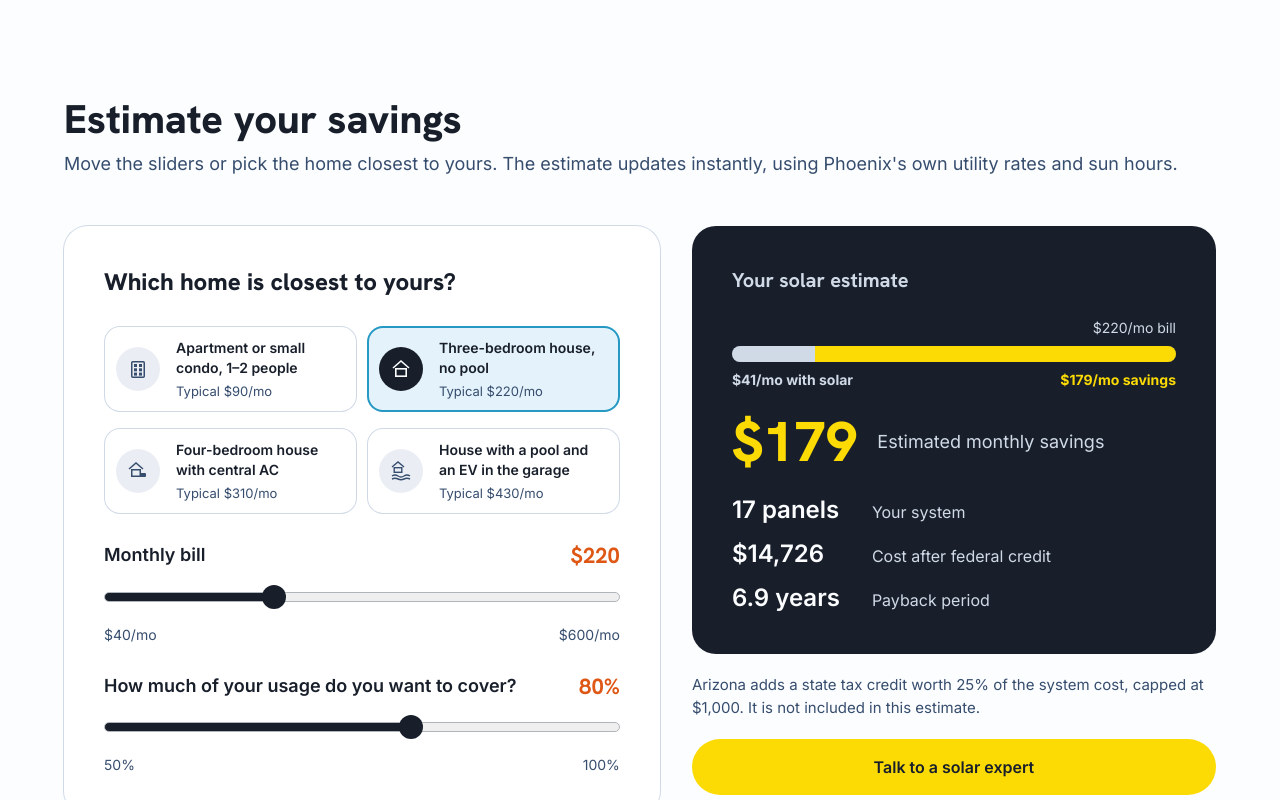
it: Simulator › the savings bar splits the bill into what you still pay and what solar saves
The width and height of the screenshot is (1280, 800).
Check: the text "$41/mo with solar" is shown, box [732, 370, 853, 390]
Set the slider labelled "Monthly bill" to "60" at (130, 597), box [104, 575, 620, 619]
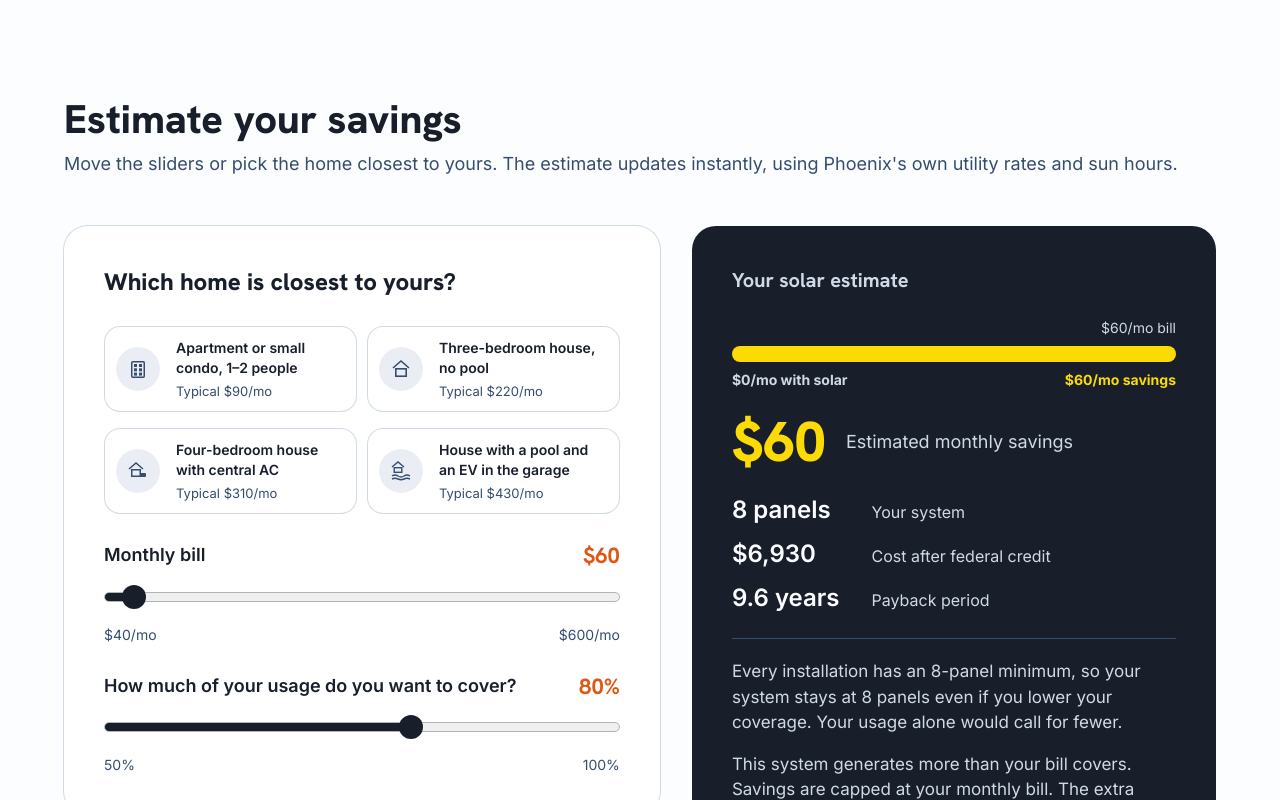
Check: the text "$0/mo with solar" is shown, box [732, 370, 848, 390]
